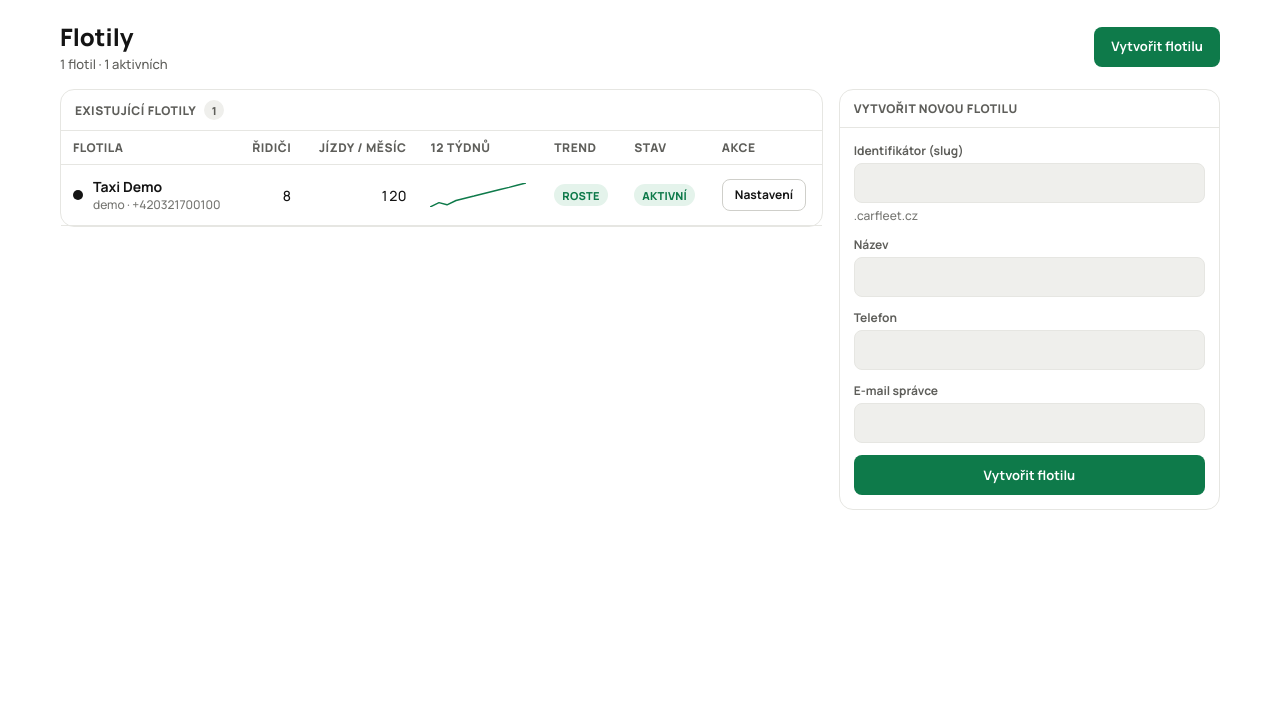
it: AdminFleetsPage (UC-021 WI-7) › blocks submit and shows errors when the form is invalid
Expected: the text "Taxi Demo" is shown, [93,177,162,196]
In the field labelled "Identifikátor (slug)": (1029,183) [865,164,1194,202], type "NOT VALID"
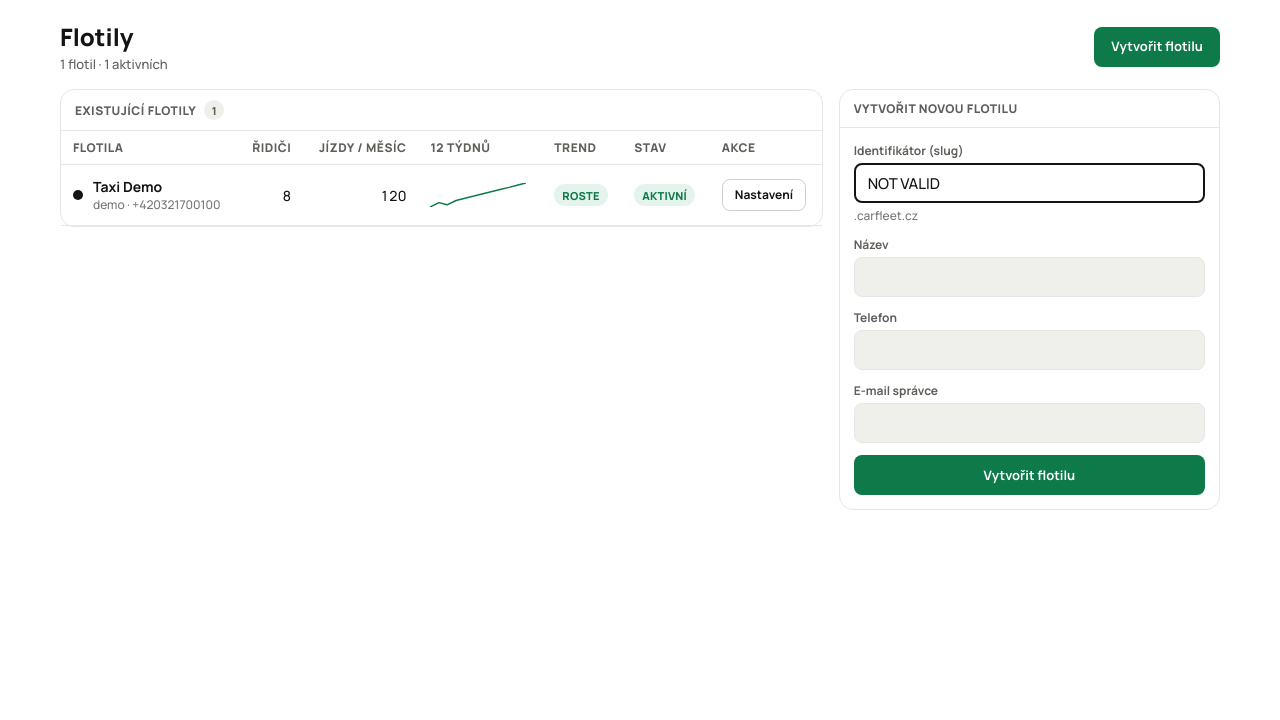
Click the button "Vytvořit flotilu" below "E-mail správce": (1029,475) [854,455,1205,495]
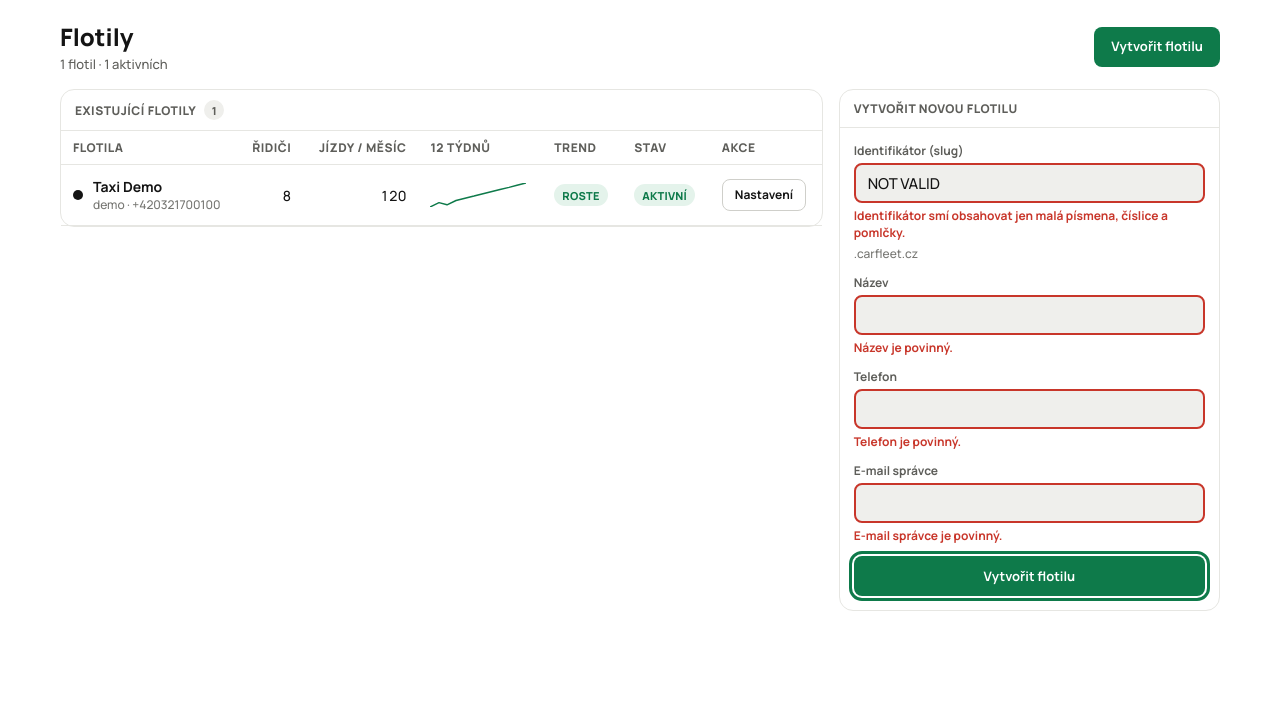
Expected: the message "Identifikátor smí obsahovat jen malá písmena, číslice a pomlčky." is shown, [854,207,1205,241]
